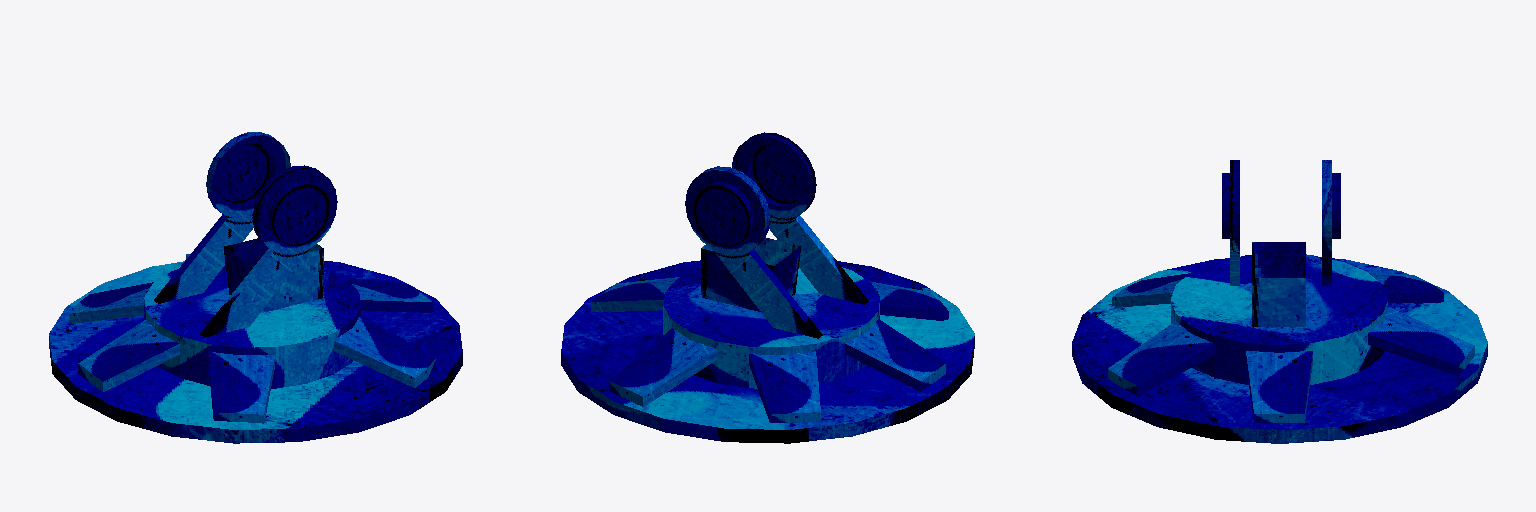
The picture shows the model from 3 angles: view 1: azimuth 30°, elevation 25°; view 2: azimuth 150°, elevation 25°; view 3: azimuth 270°, elevation 25°; orthographic projection.
Parts seen in each view (by area): view 1: Cylinder_Cylinder.004; view 2: Cylinder_Cylinder.004; view 3: Cylinder_Cylinder.004.
Boxes of the visible parts, x1=… form: Cylinder_Cylinder.004: x1=49, y1=132, x2=462, y2=443; Cylinder_Cylinder.004: x1=561, y1=132, x2=974, y2=443; Cylinder_Cylinder.004: x1=1072, y1=160, x2=1487, y2=443.
Size of the model in its own units: 3.27 by 1.74 by 3.27.
Materials: 1 (1 with a texture image).